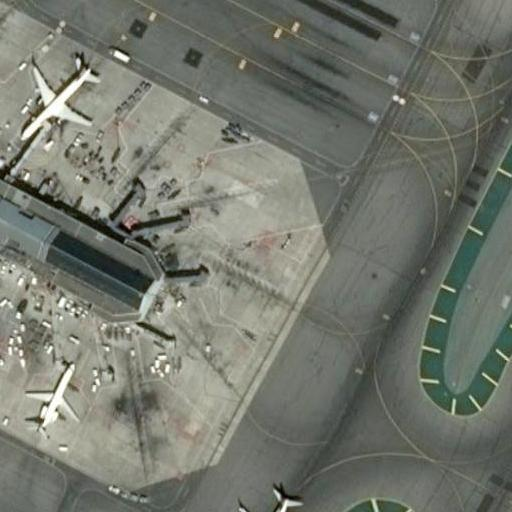Aircraft: (14, 57, 101, 149), (32, 362, 82, 438), (220, 481, 312, 512)
